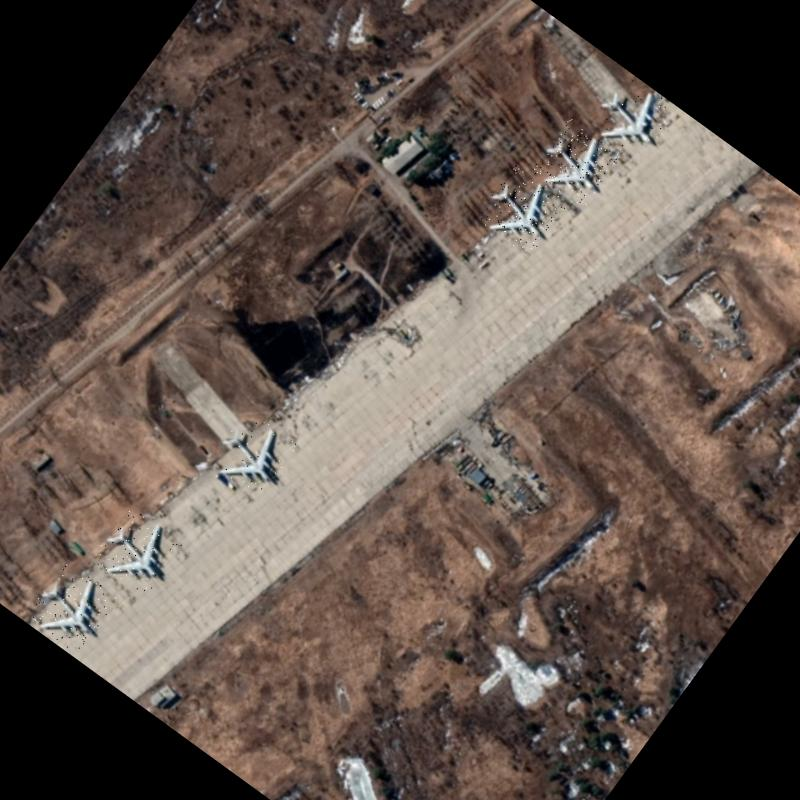A17: (90, 503, 185, 599), (24, 560, 119, 655), (474, 163, 568, 257), (206, 408, 298, 500), (530, 117, 622, 208), (586, 71, 676, 163)
